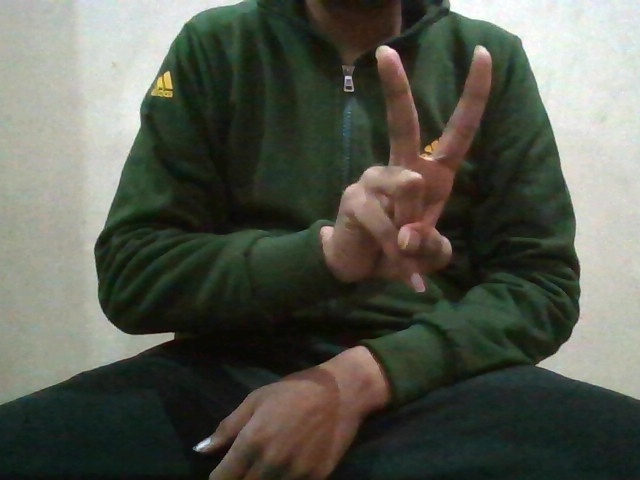V: (346, 45, 508, 292)
